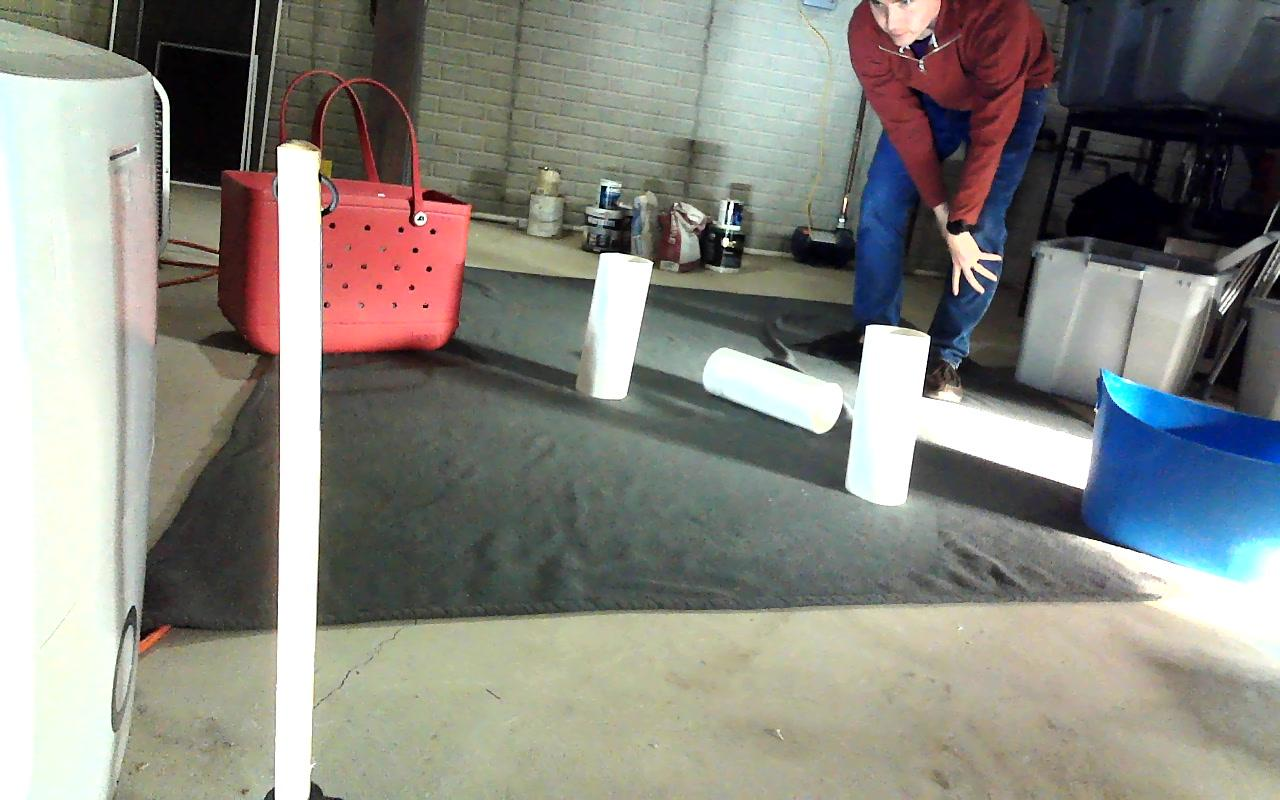coral: (845, 325, 928, 505), (703, 348, 843, 433), (584, 252, 650, 399)
